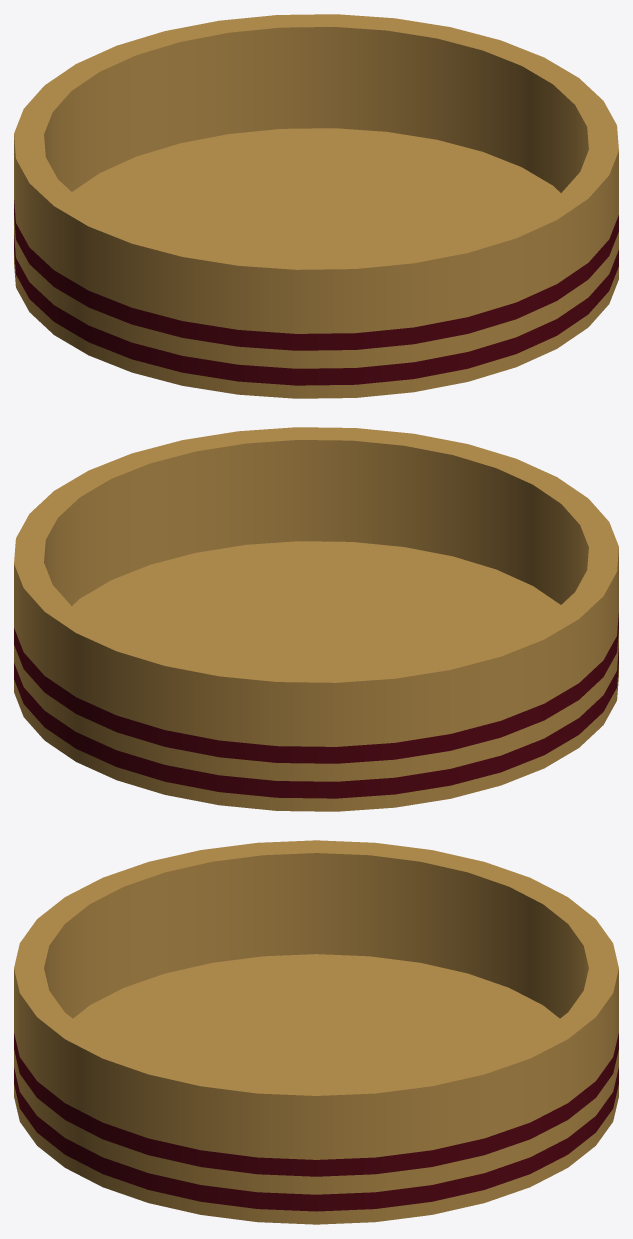
File: 3_basin_2.fbx
3 views of the same model, one above another, from view 1: azimuth 30°, elevation 25°; view 2: azimuth 150°, elevation 25°; view 3: azimuth 270°, elevation 25° (orthographic).
Parts seen in each view (by area): view 1: 3_basin_2; view 2: 3_basin_2; view 3: 3_basin_2.
Part boxes in pixels (x1=…): 3_basin_2: x1=14, y1=14, x2=618, y2=398; 3_basin_2: x1=14, y1=427, x2=618, y2=811; 3_basin_2: x1=14, y1=840, x2=618, y2=1224.
Bounding box in the file's own units: 140 × 32.74 × 140.
